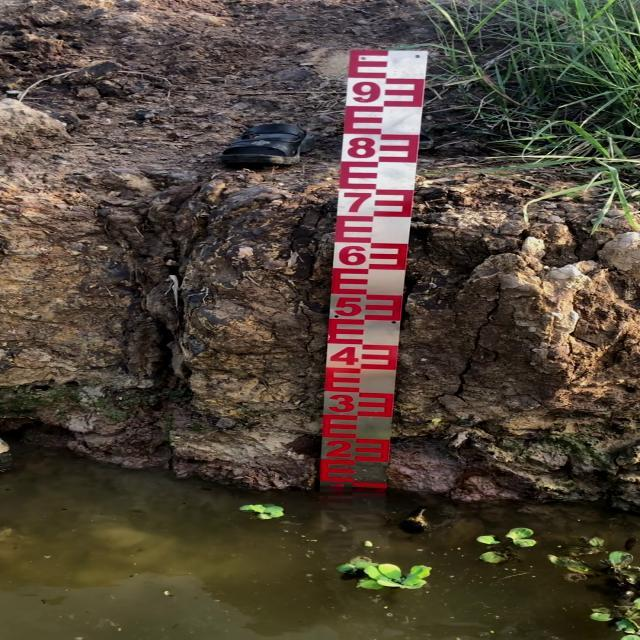ruler: (308, 27, 451, 502)
value: (346, 77, 386, 110), (341, 131, 380, 164), (338, 188, 378, 220), (334, 240, 372, 271), (331, 293, 366, 324), (324, 389, 360, 418), (326, 342, 363, 370), (323, 436, 358, 464)
